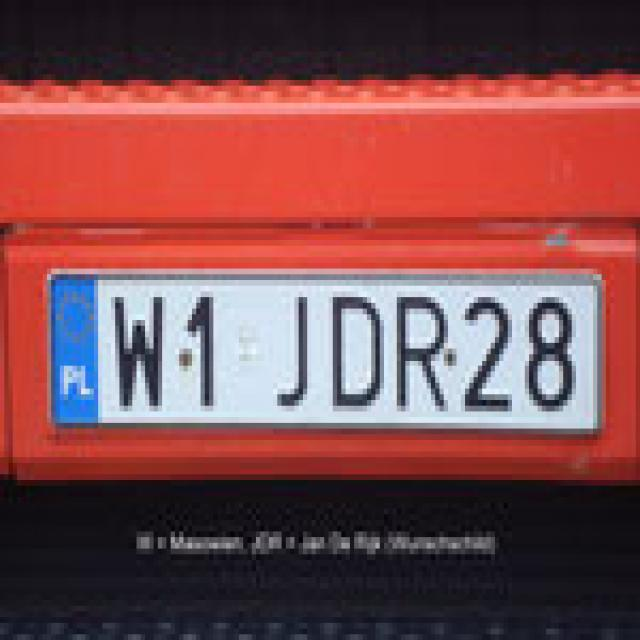pl_license_plate: (47, 268, 593, 423)
